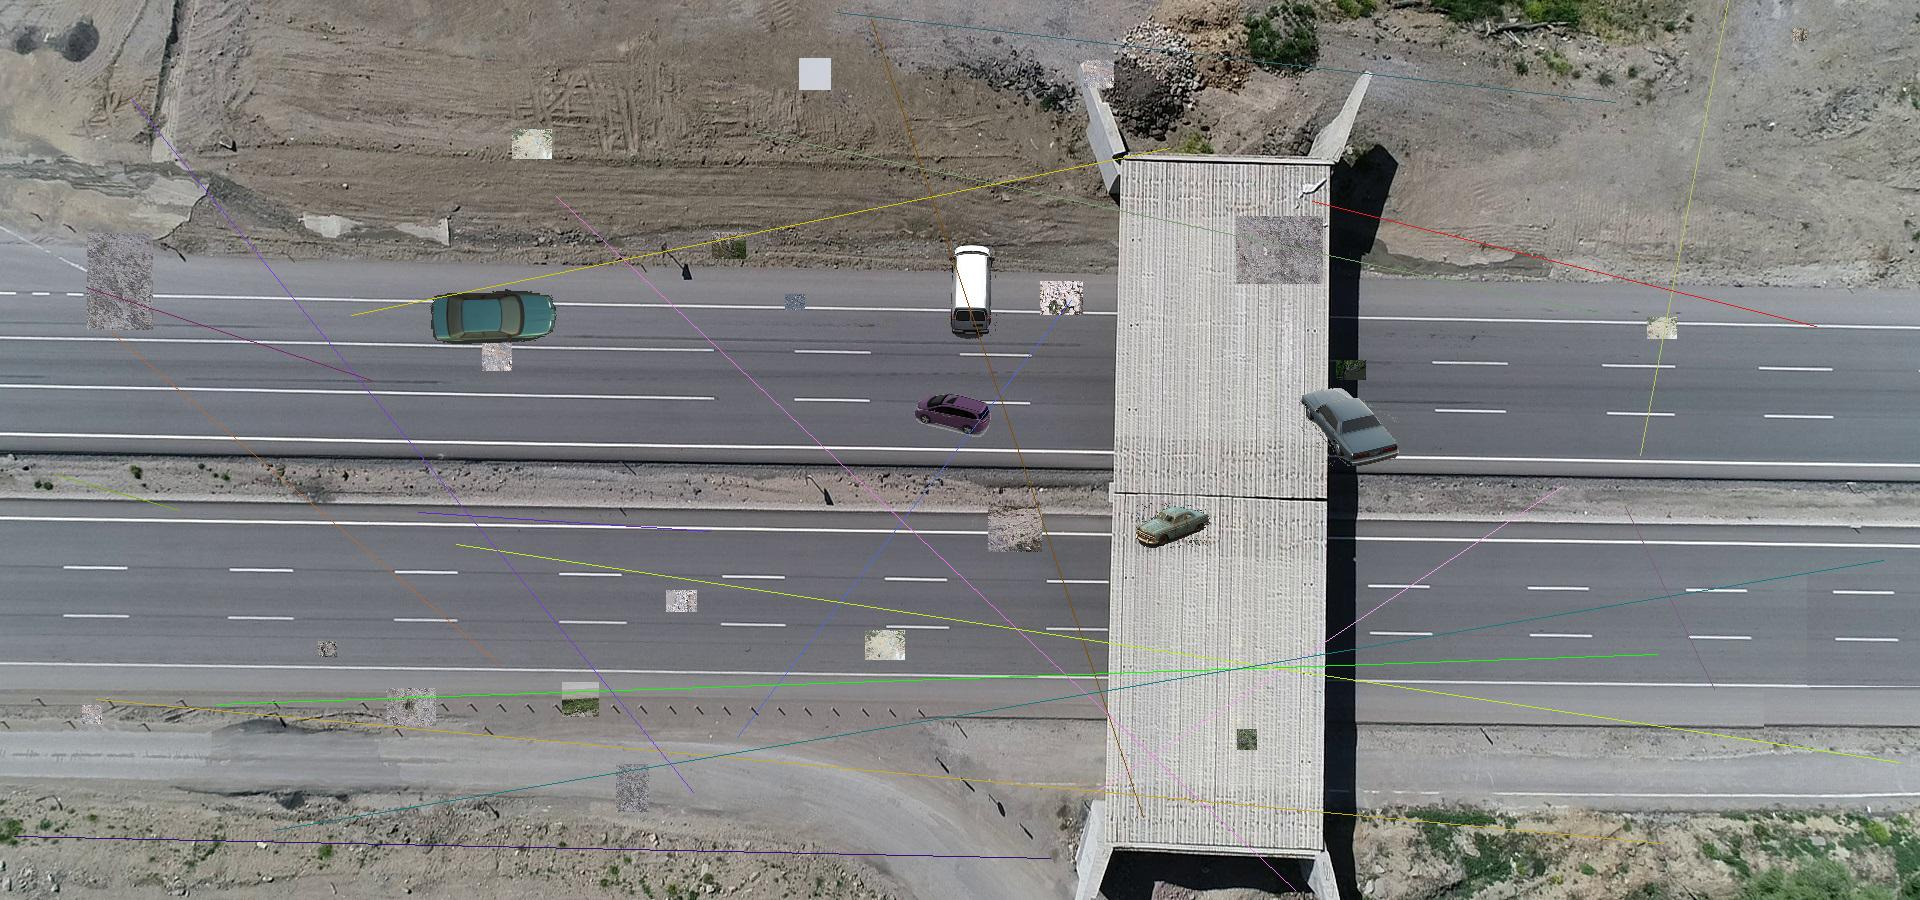arac: (1299, 384, 1400, 467), (430, 289, 557, 347), (947, 242, 997, 339), (913, 393, 992, 437), (1136, 503, 1210, 549)
